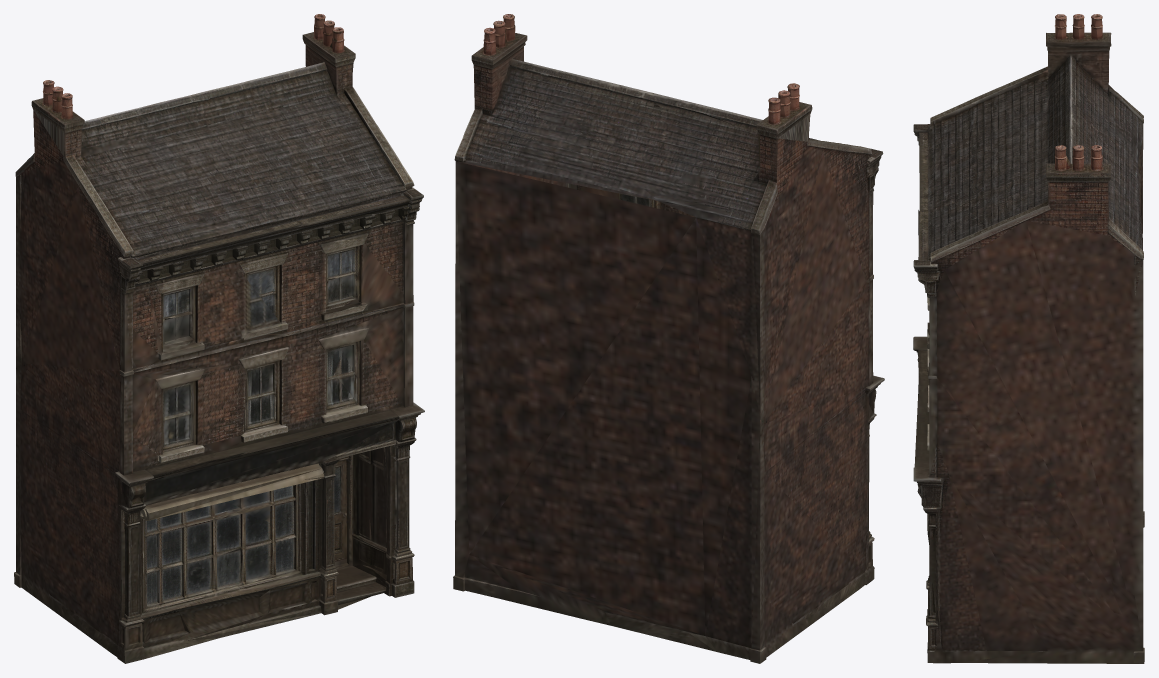
The model's file is SM_Shop_AR03.glb.
3 renders of one model, left to right at view 1: azimuth 30°, elevation 25°; view 2: azimuth 150°, elevation 25°; view 3: azimuth 270°, elevation 25°, orthographic. The views are drawn at different scales.
Parts seen in each view (by area): view 1: Mesh_0; view 2: Mesh_0; view 3: Mesh_0.
Part boxes in pixels (<box>): Mesh_0: <box>14,14,424,663</box>; Mesh_0: <box>453,14,884,663</box>; Mesh_0: <box>913,14,1144,663</box>.
Bounding box in the file's own units: 1.14 × 1.9 × 0.7785.
Materials: 1 (1 with a texture image).
